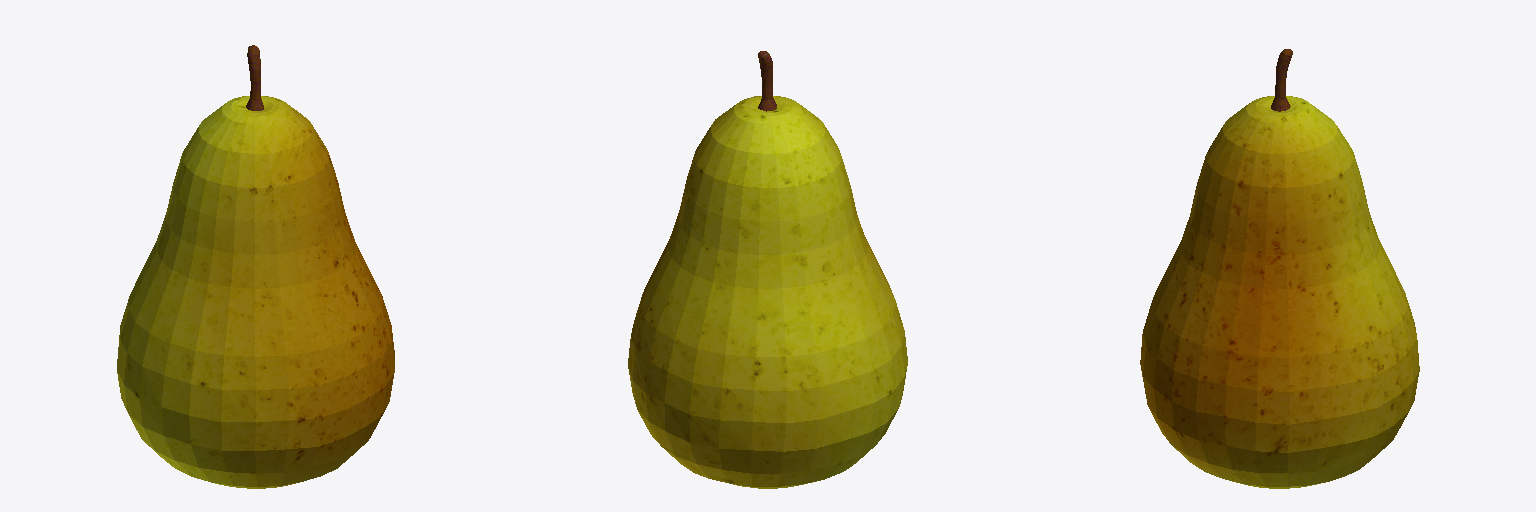
The picture shows the model from 3 angles: view 1: azimuth 30°, elevation 25°; view 2: azimuth 150°, elevation 25°; view 3: azimuth 270°, elevation 25°; orthographic projection.
Parts seen in each view (by area): view 1: Pear_Low; view 2: Pear_Low; view 3: Pear_Low.
Boxes of the visible parts, <box> form: Pear_Low: <box>117,45,394,488</box>; Pear_Low: <box>628,51,907,488</box>; Pear_Low: <box>1140,49,1419,488</box>.
Bounding box in the file's own units: 20.65 × 33.8 × 20.69.
1 materials, 1 textured.